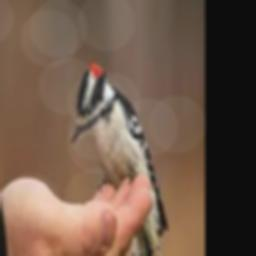Woodpecker: (71, 61, 168, 256)
